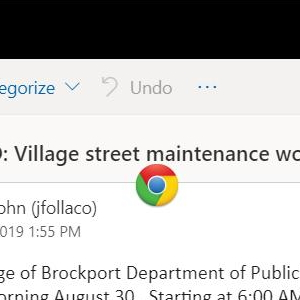chrome: (135, 163, 179, 207)
